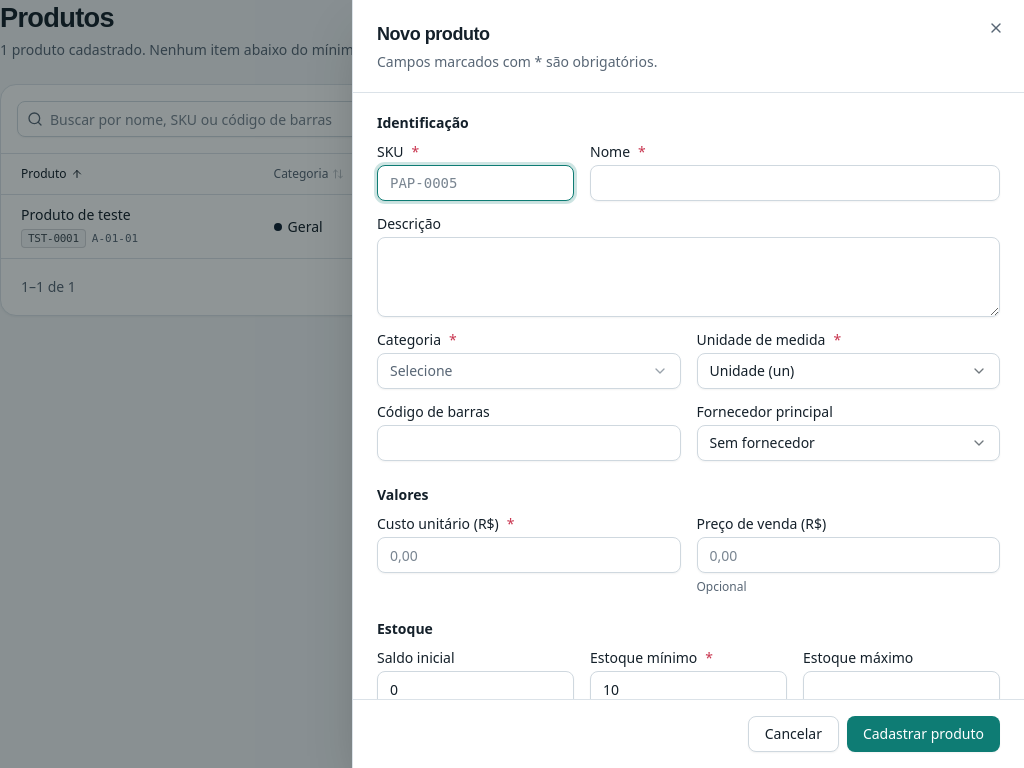
Test: página de produtos › valida campos obrigatórios e valores monetários
Type "12,345" into the field labelled "Custo unitário (R$) *" at (529, 555), box [377,537,680,573]
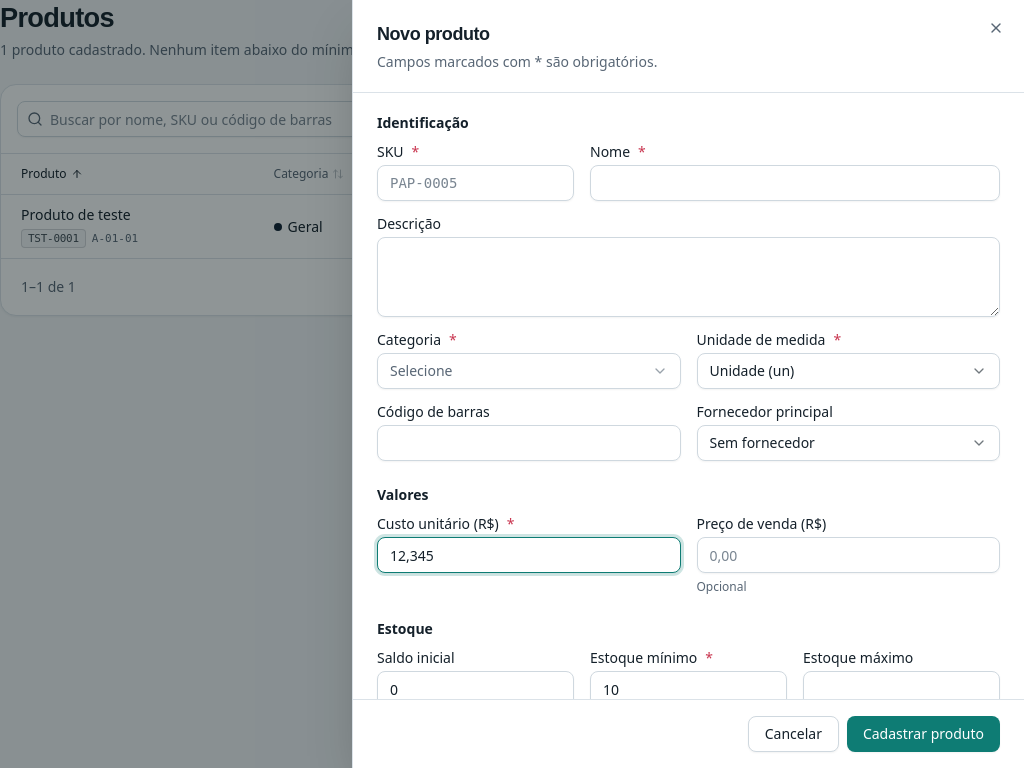
Click the button "Cadastrar produto" at (923, 734), box [847,716,1000,752]
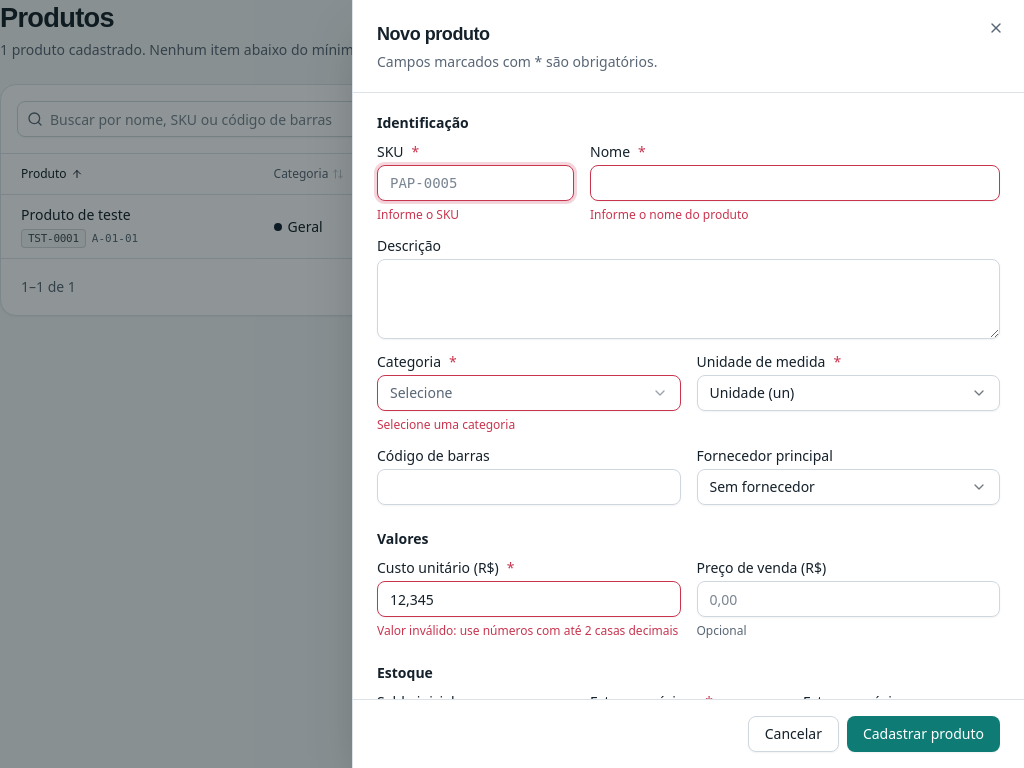
expect the text "Informe o SKU" is shown: met, box [377,206,459,223]
expect the text "Selecione uma categoria" is shown: met, box [377,416,515,433]
expect the text "Valor inválido: use números com até 2 casas decimais" is shown: met, box [377,623,680,639]
